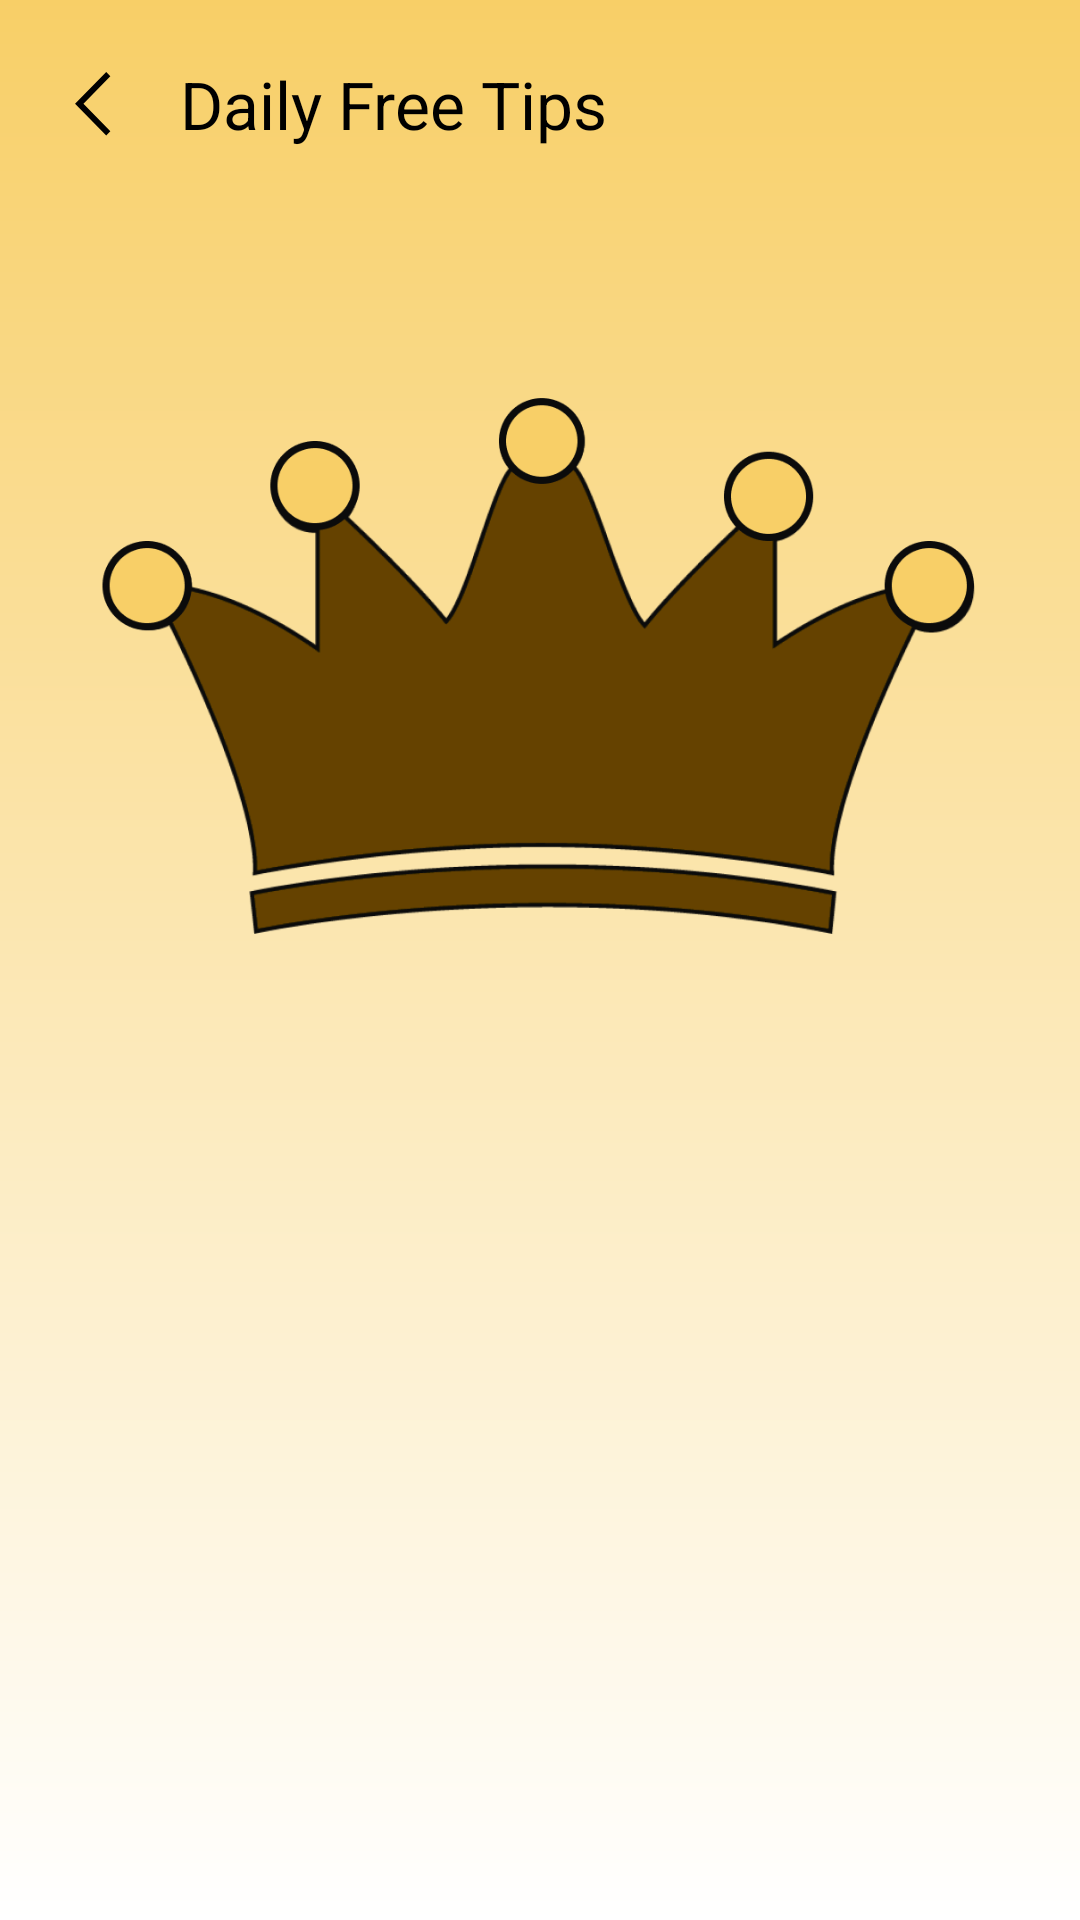

Where to tap for icons on this 1080w x 1920h app screen, as (x,y):
back: (93,104)
